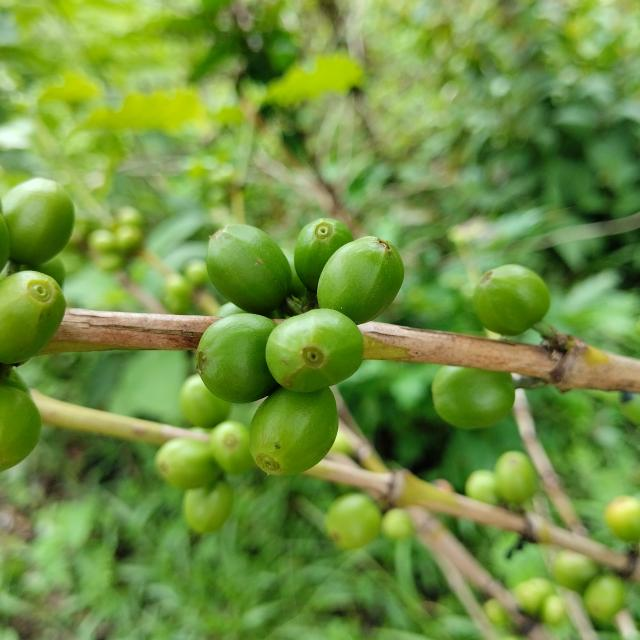green: (265, 309, 364, 393), (205, 224, 292, 316), (249, 388, 338, 477), (317, 236, 404, 324), (196, 313, 278, 404), (1, 178, 74, 265), (0, 270, 65, 364), (474, 264, 551, 336), (432, 366, 516, 429), (295, 218, 354, 291), (0, 385, 40, 472), (28, 257, 65, 288)
